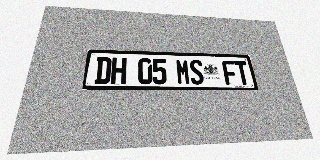0: (138, 58, 152, 84)
5: (152, 58, 167, 84)
D: (94, 57, 112, 84)
F: (222, 60, 238, 85)
H: (110, 57, 127, 84)
M: (175, 59, 191, 85)
S: (189, 59, 205, 85)
T: (234, 61, 251, 85)
